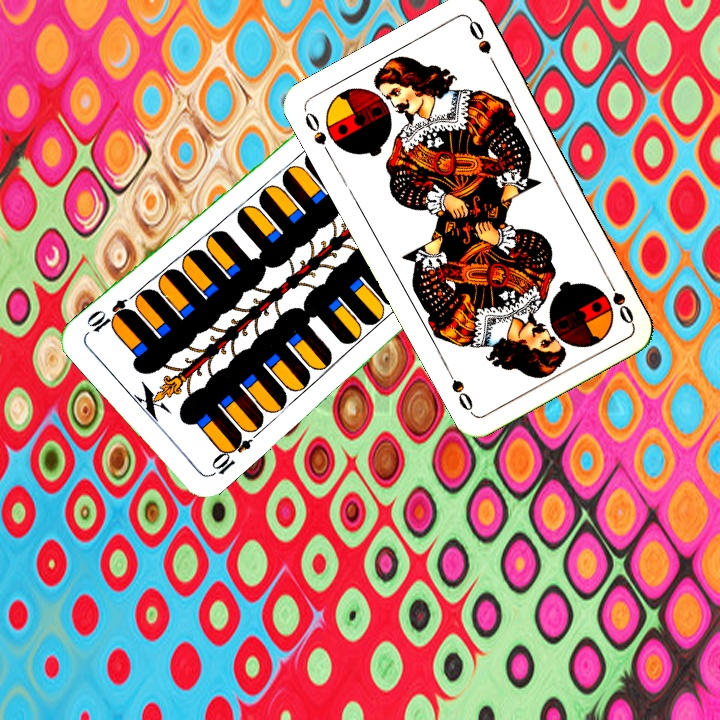E10: (206, 429, 254, 480)
SO: (601, 272, 637, 327), (300, 107, 335, 161)
